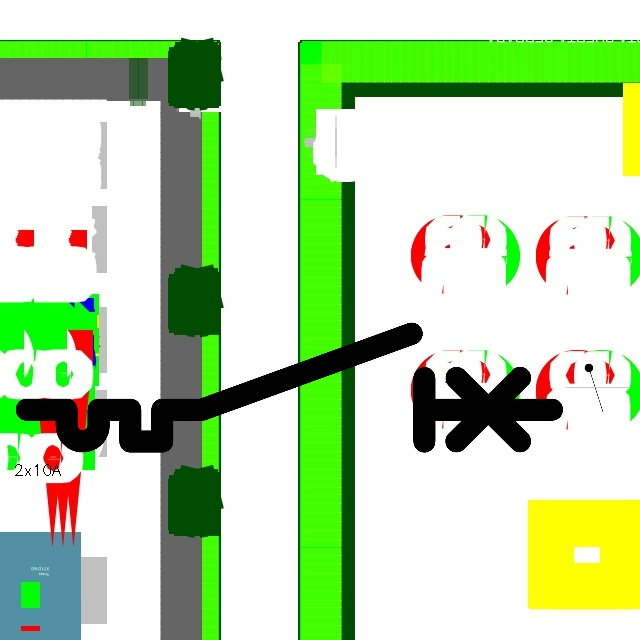interruptor_termomagnetico: (13, 320, 565, 455)
